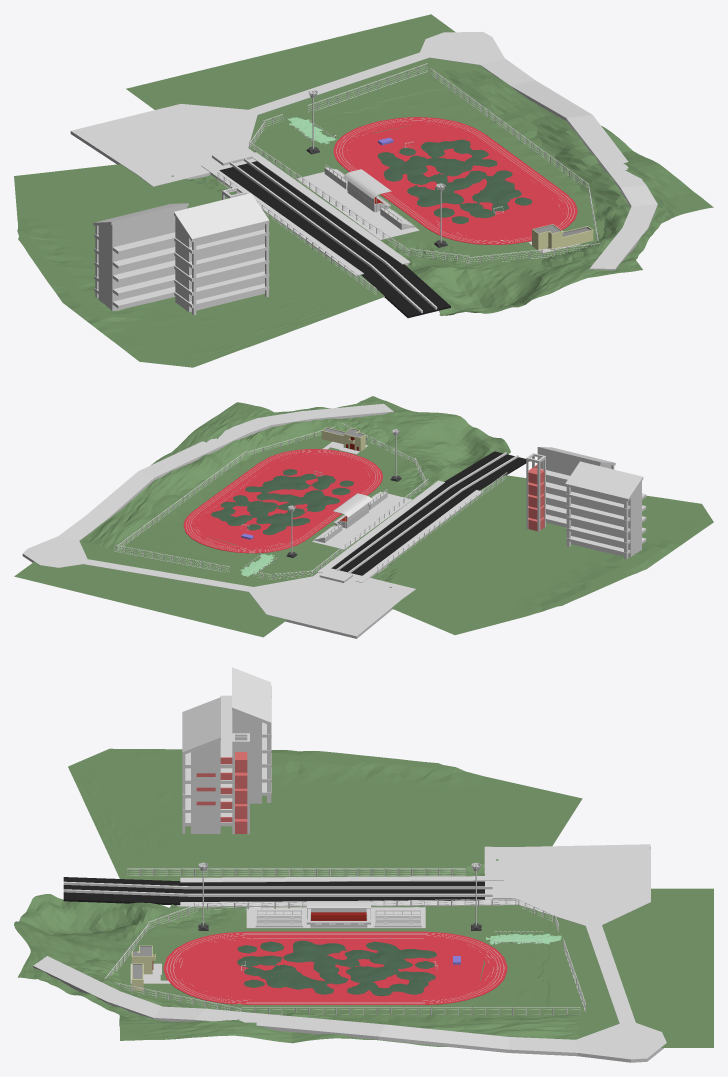
File: playground.fbx
3 renders of one model, top to bottom at view 1: azimuth 30°, elevation 25°; view 2: azimuth 150°, elevation 25°; view 3: azimuth 270°, elevation 25°, orthographic. The views are drawn at different scales.
Visible parts, largest first — view 1: 平面.007, 立方体.054, 平面.005, 平面, 平面.001, 平面.002, 立方体.061, 平面.006, 立方体.065, 立方体.071, 立方体, 立方体.073 (+12 smaller); view 2: 平面.007, 立方体.054, 平面.005, 平面, 平面.001, 平面.002, 平面.006, 立方体.061, 立方体.073, 立方体, 立方体.071, 平面.003 (+13 smaller); view 3: 平面.007, 立方体.054, 平面.005, 平面, 平面.001, 立方体.061, 平面.006, 立方体, 平面.002, 立方体.065, 立方体.073, 立方体.071 (+13 smaller).
Boxes of the visible parts, x1,y1,x2,y2 form: 平面.007: (14,164,384,367); 立方体.054: (70,31,657,270); 平面.005: (126,14,486,135); 平面: (248,88,604,266); 平面.001: (333,117,577,244); 平面.002: (428,66,713,223); 立方体.061: (219,158,450,318); 平面.006: (406,253,642,315); 立方体.065: (174,193,269,315); 立方体.071: (94,229,269,308); 立方体: (377,139,532,223); 立方体.073: (93,203,188,311); 平面.007: (371,475,713,634); 立方体.054: (22,403,415,638); 平面.005: (14,537,289,637); 平面: (128,435,443,581); 平面.001: (183,449,382,553); 平面.002: (83,402,273,551); 平面.006: (352,396,510,481); 立方体.061: (331,451,529,575); 立方体.073: (565,461,643,559); 立方体: (211,469,353,534); 立方体.071: (540,468,646,555); 平面.003: (259,403,389,449); 平面.007: (68,748,582,880); 立方体.054: (33,844,666,1062); 平面.005: (537,888,713,1047); 平面: (118,904,549,1032); 平面.001: (163,931,507,1004); 立方体.061: (63,877,492,905); 平面.006: (14,894,168,982); 立方体: (237,940,436,995); 平面.002: (119,1007,579,1046); 立方体.065: (182,697,220,833); 立方体.073: (232,667,271,803); 立方体.071: (182,695,271,826).
Size of the model in its own units: 1831 by 310 by 1740.
